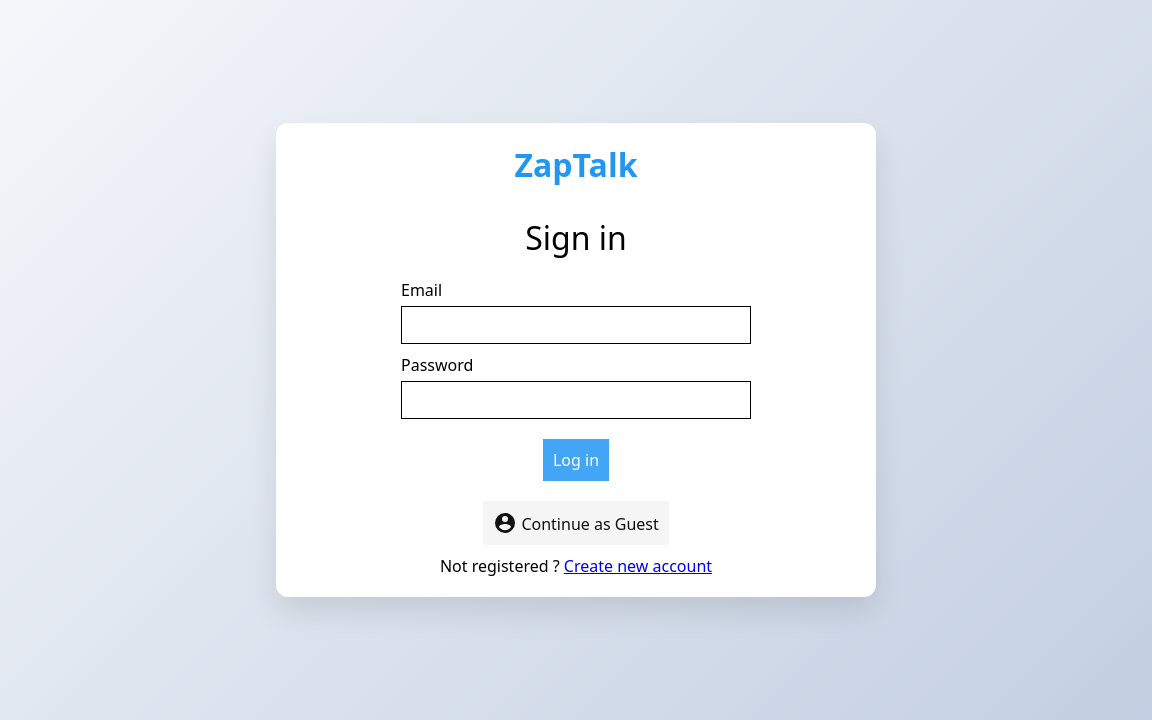
Test: Login Component › Guest button › on guest submit failure, show error message
The image size is (1152, 720).
Click the button with test id "guestBtn": (576, 523) [483,501,669,545]
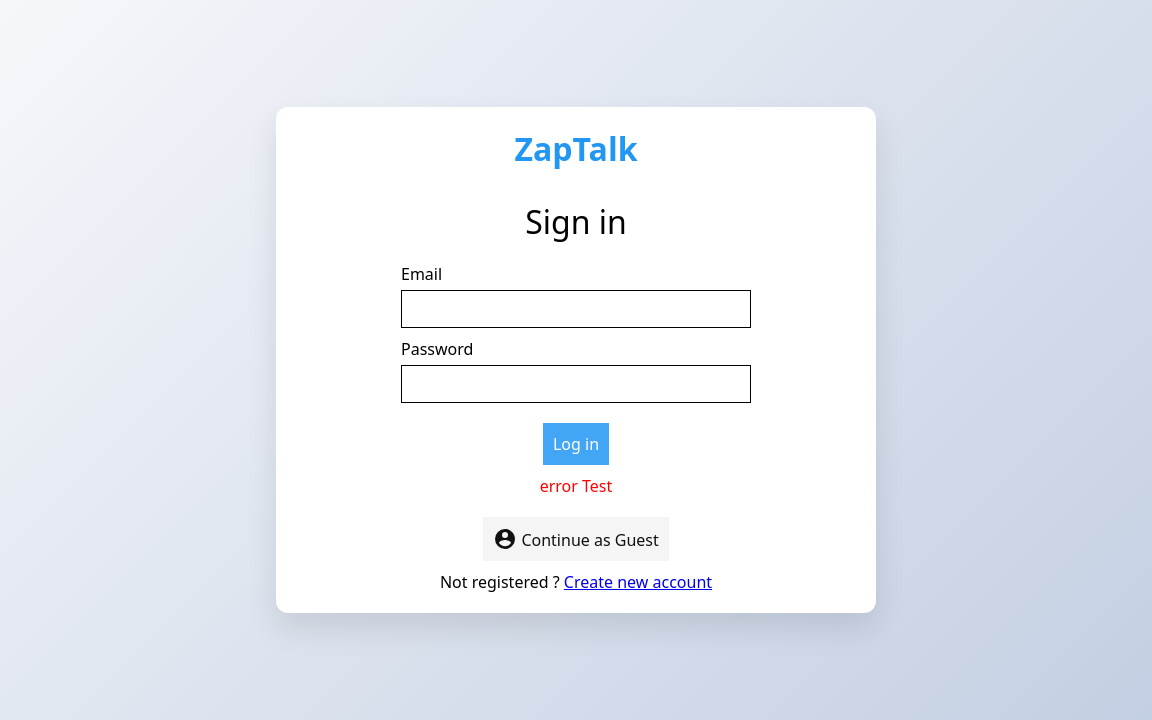
Expected: the text "error Test" is shown, [540,475,612,497]
